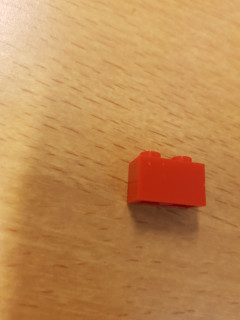1x2 red: (129, 151, 207, 208)
